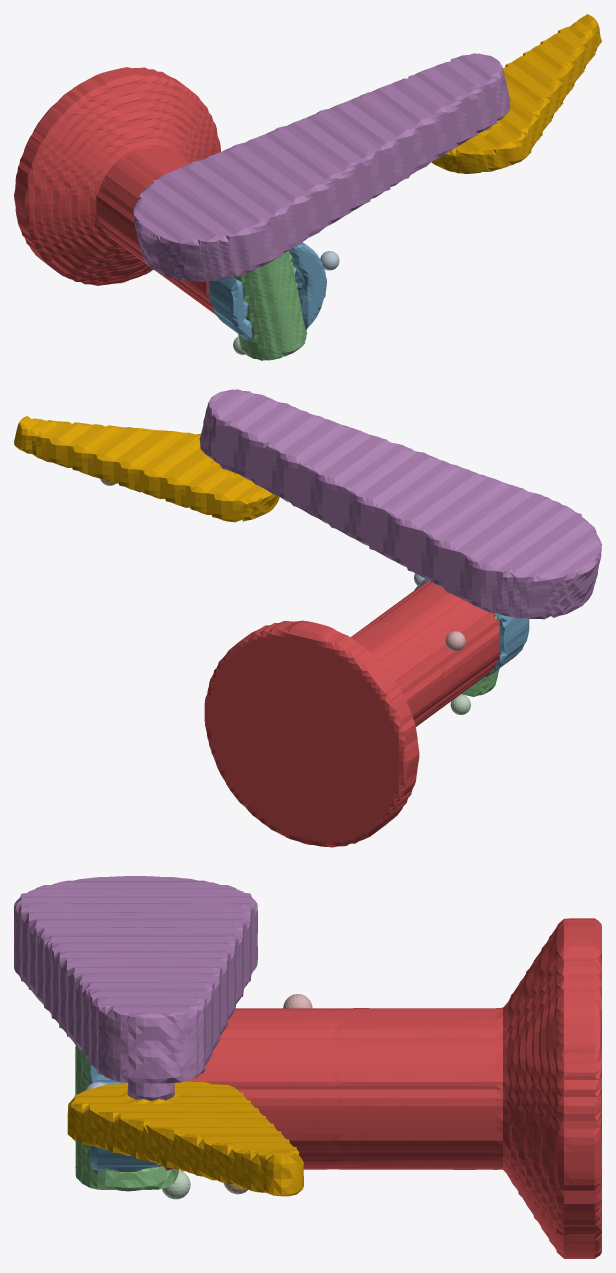
The model's file is ours.glb.
3 renders of one model, top to bottom at view 1: azimuth 30°, elevation 25°; view 2: azimuth 150°, elevation 25°; view 3: azimuth 270°, elevation 25°, orthographic. The views are drawn at different scales.
Parts seen in each view (by area): view 1: g3, g0, g4, g2, g1; view 2: g0, g3, g4, g1, g2; view 3: g0, g3, g4, g2, g1.
Part boxes in pixels (bbox=[...]): g3: bbox=[133, 53, 510, 281]; g0: bbox=[14, 67, 220, 314]; g4: bbox=[431, 14, 601, 173]; g2: bbox=[233, 251, 307, 360]; g1: bbox=[208, 242, 339, 341]; g0: bbox=[204, 581, 500, 847]; g3: bbox=[199, 389, 601, 619]; g4: bbox=[14, 416, 279, 522]; g1: bbox=[414, 573, 529, 676]; g2: bbox=[450, 613, 499, 714]; g0: bbox=[163, 918, 601, 1258]; g3: bbox=[14, 876, 257, 1100]; g4: bbox=[67, 1081, 303, 1196]; g2: bbox=[75, 1045, 190, 1199]; g1: bbox=[85, 1065, 163, 1175].
Bounding box in the file's own units: 1.9 × 0.9601 × 1.27.
